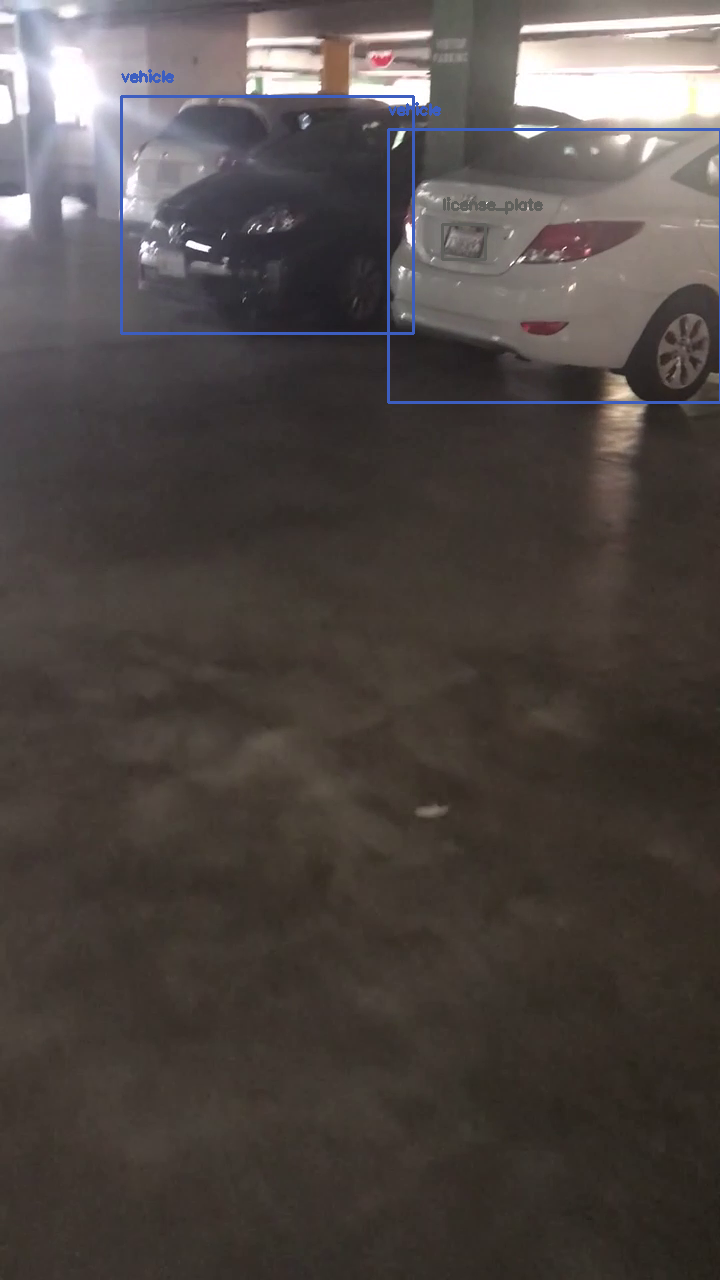license_plate: (442, 224, 485, 259)
vehicle: (388, 129, 720, 402), (121, 96, 413, 333)
